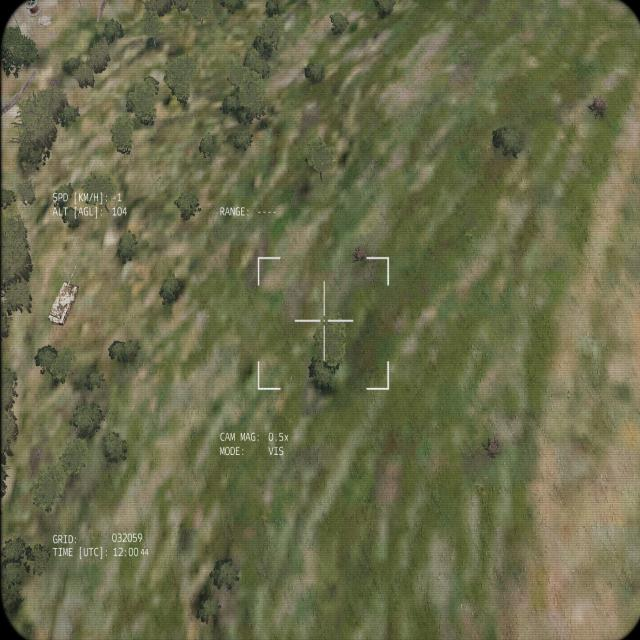tank: (47, 264, 78, 325)
